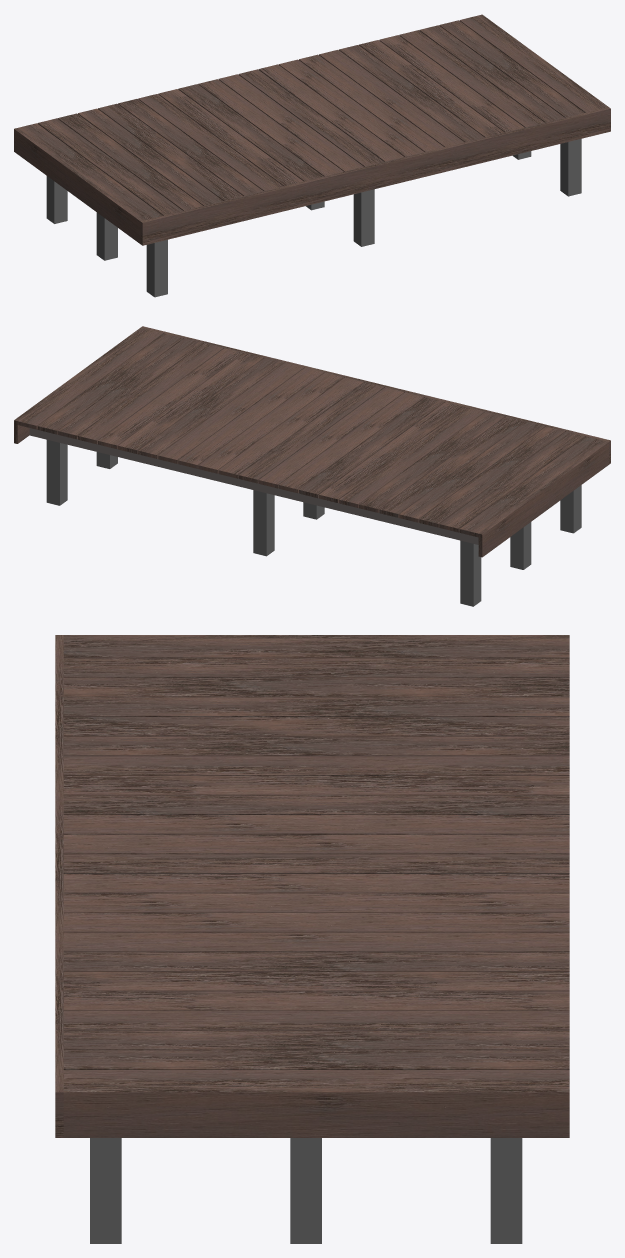
Rendered from tanmokuashdeck_1khan-4s_mutoso.fbx.
3 renders of one model, top to bottom at view 1: azimuth 30°, elevation 25°; view 2: azimuth 150°, elevation 25°; view 3: azimuth 270°, elevation 25°, orthographic. The views are drawn at different scales.
Parts seen in each view (by area): view 1: tanmokuashdeck_1khan-4s_mutoso; view 2: tanmokuashdeck_1khan-4s_mutoso; view 3: tanmokuashdeck_1khan-4s_mutoso.
Boxes of the visible parts, x1=… form: tanmokuashdeck_1khan-4s_mutoso: x1=14, y1=14, x2=610, y2=297; tanmokuashdeck_1khan-4s_mutoso: x1=14, y1=326, x2=610, y2=606; tanmokuashdeck_1khan-4s_mutoso: x1=55, y1=635, x2=569, y2=1243.
Bounding box in the file's own units: 256 × 45 × 122.
Materials: 3 (1 with a texture image).
